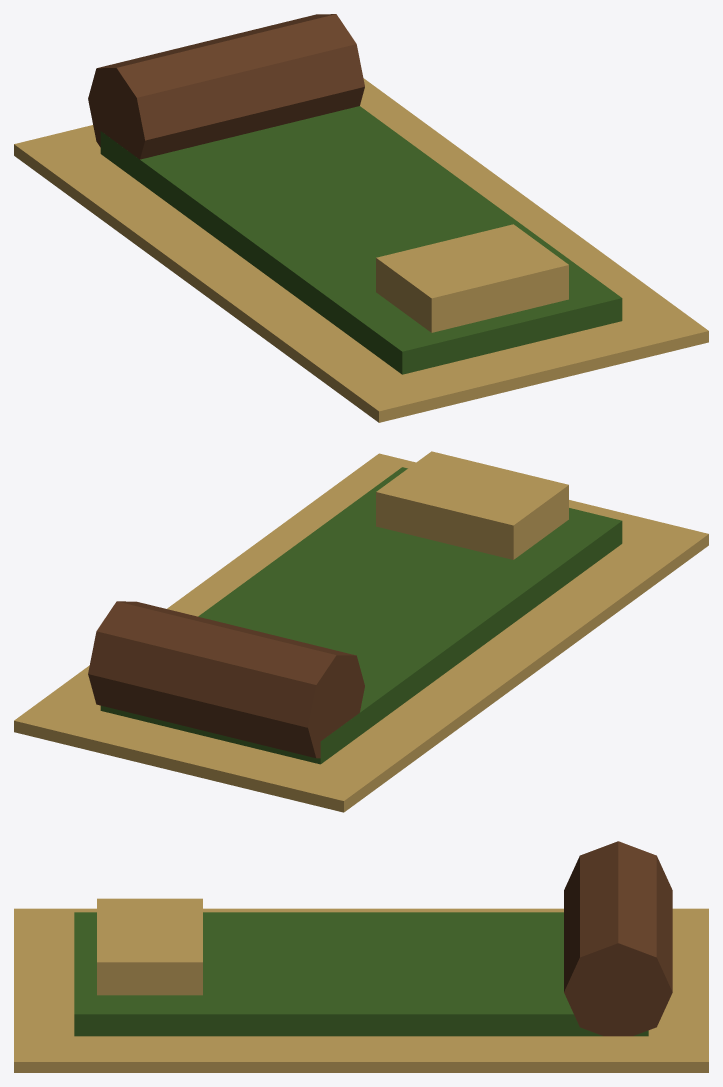
File: bedroll.glb
3 renders of one model, top to bottom at view 1: azimuth 30°, elevation 25°; view 2: azimuth 150°, elevation 25°; view 3: azimuth 270°, elevation 25°, orthographic. The views are drawn at different scales.
Parts seen in each view (by area): view 1: bedroll; view 2: bedroll; view 3: bedroll.
Part boxes in pixels (box(x1,y1,x2,y2)): bedroll: box(14, 14, 708, 422); bedroll: box(14, 451, 708, 812); bedroll: box(14, 841, 708, 1072).
Size of the model in its own units: 1.2 by 0.3803 by 2.3.
1 material, 1 textured.
